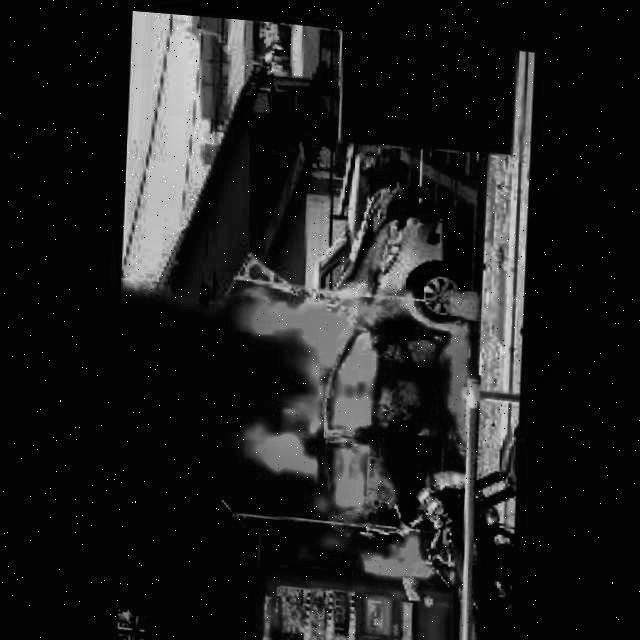Fire: (237, 257, 485, 587)
Smoke: (106, 262, 303, 640)
